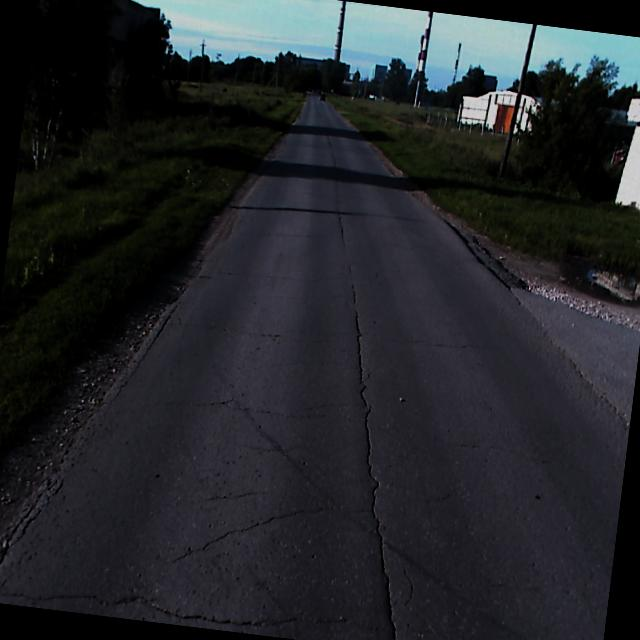road: (0, 91, 640, 640)
